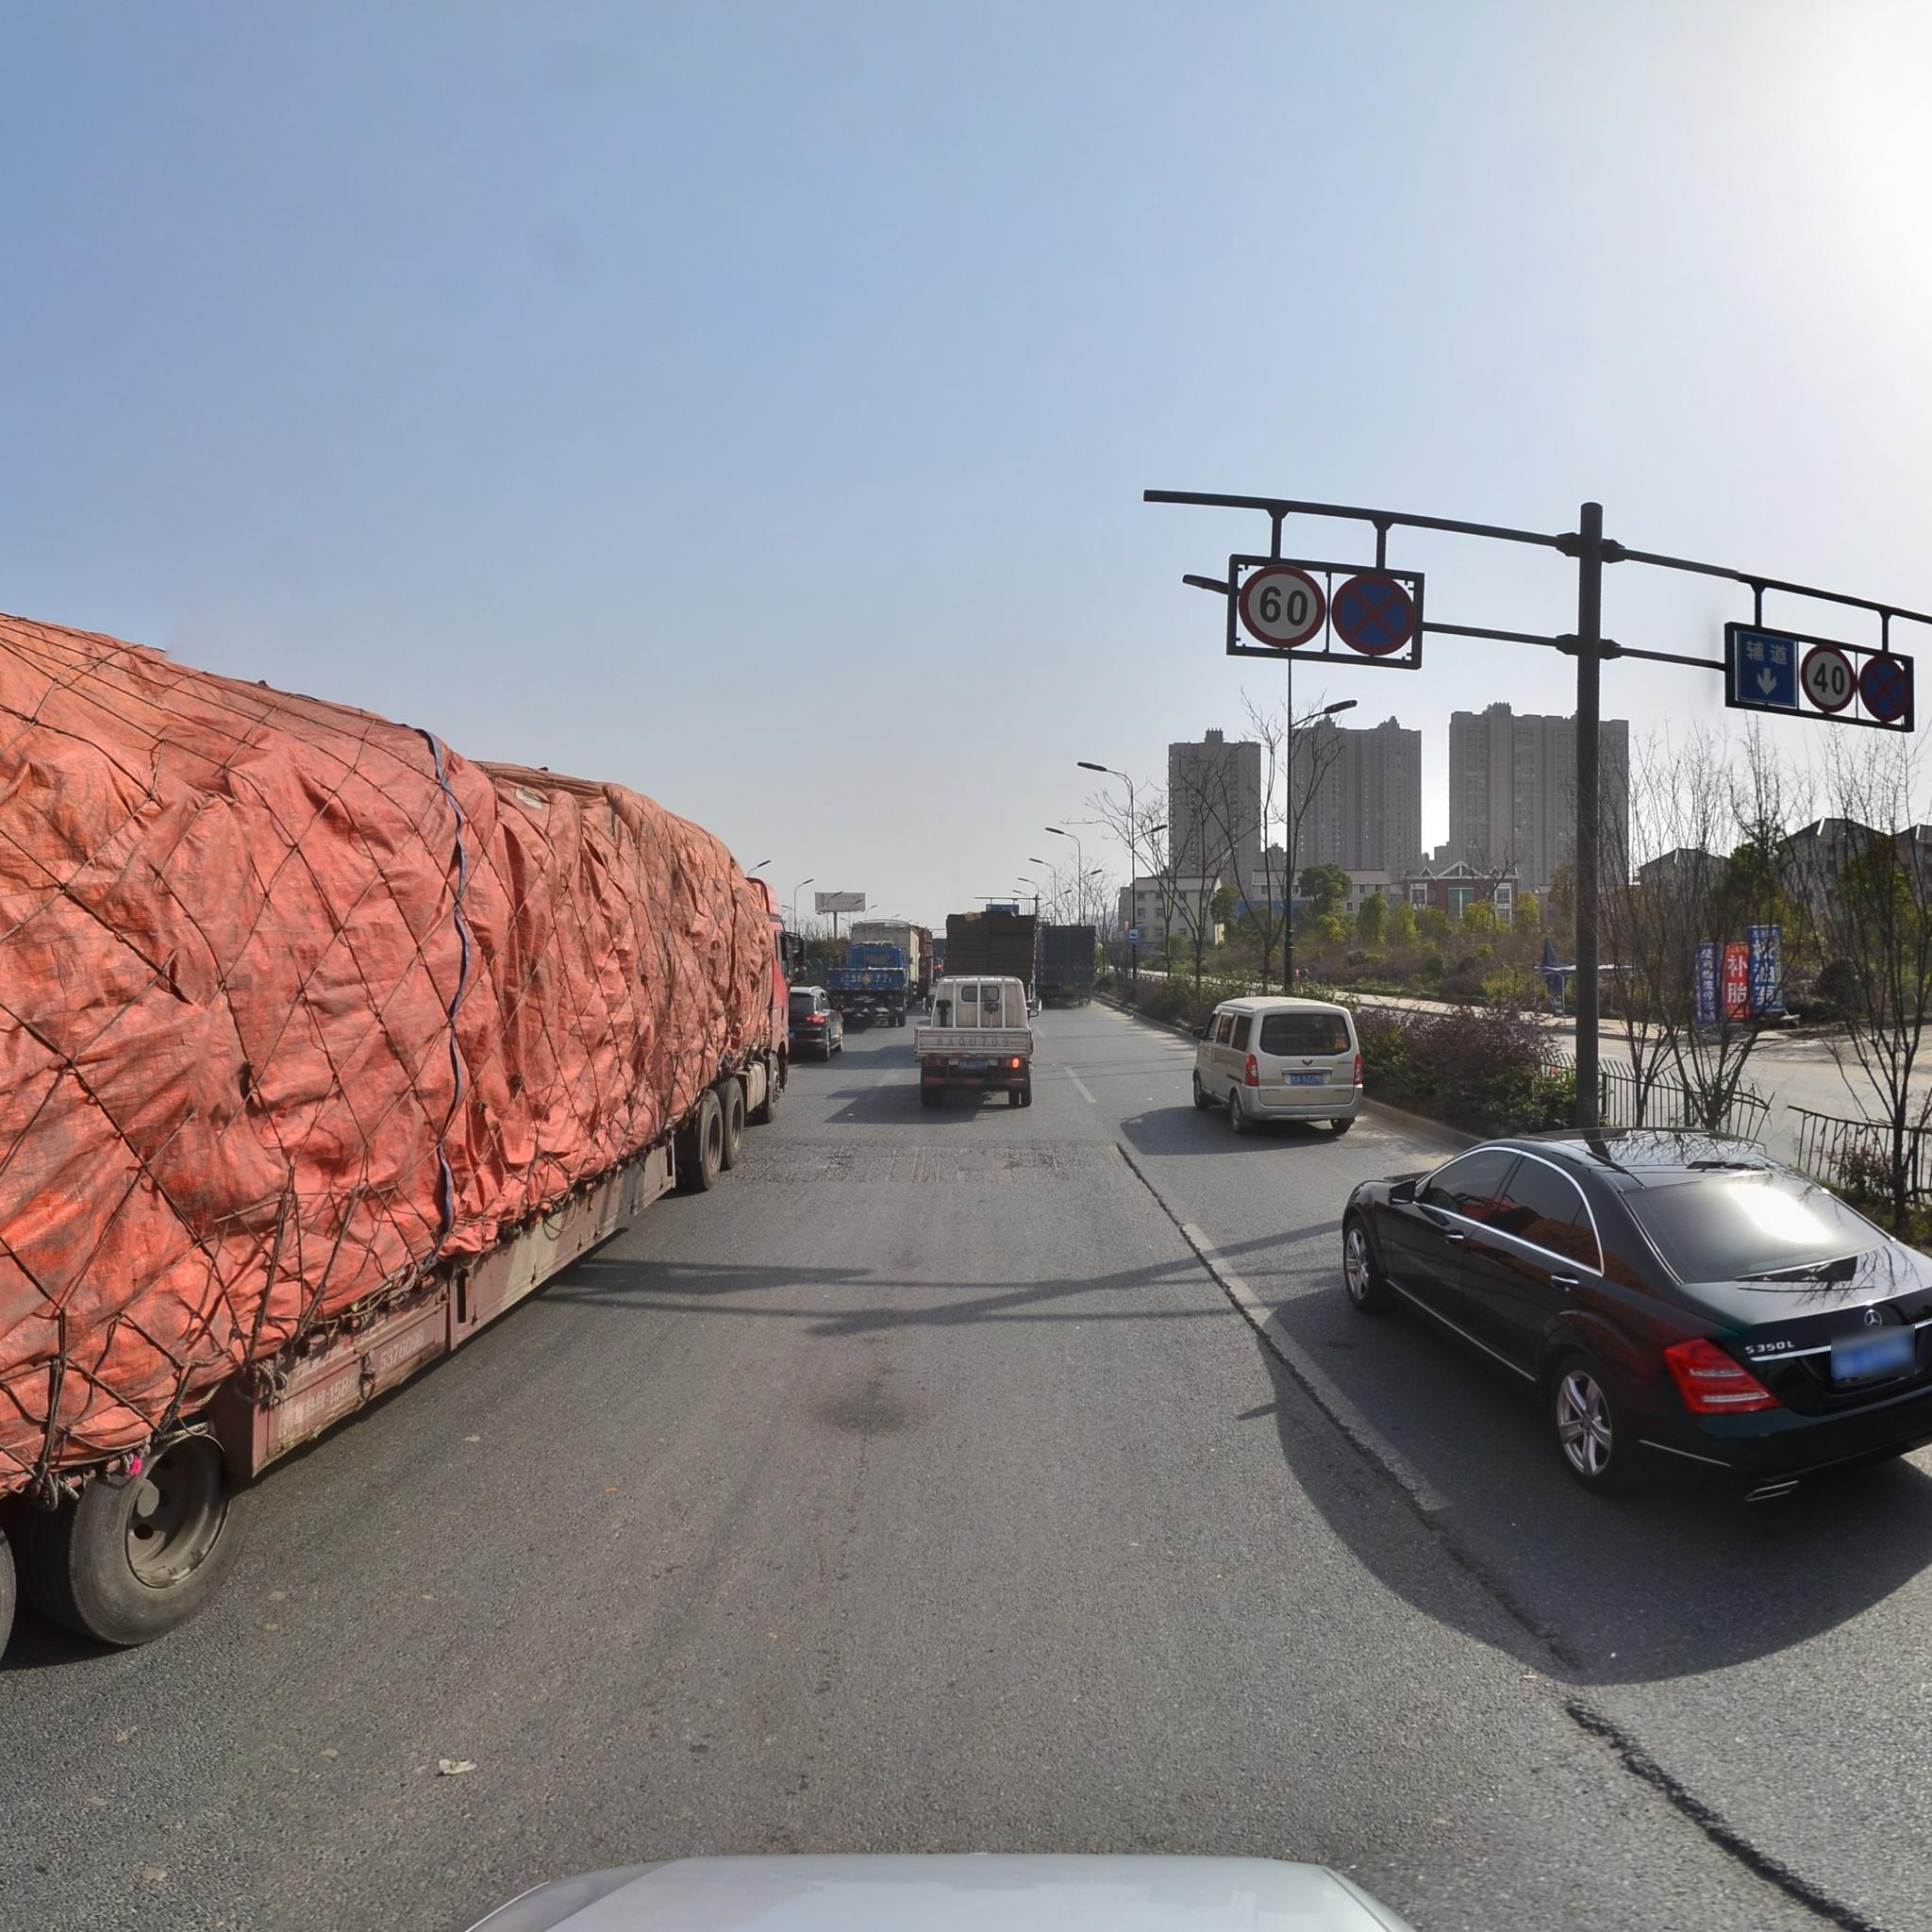pl40: (1801, 648, 1856, 718)
pl60: (1240, 570, 1316, 642)
pn: (1334, 577, 1424, 660), (1863, 658, 1916, 736)
